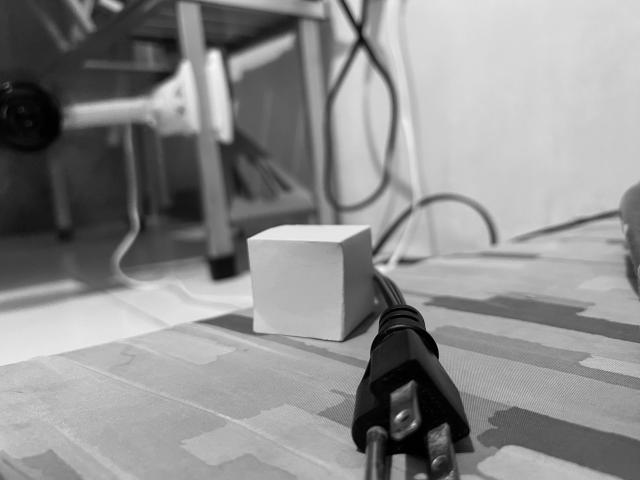wire: (351, 276, 474, 480)
